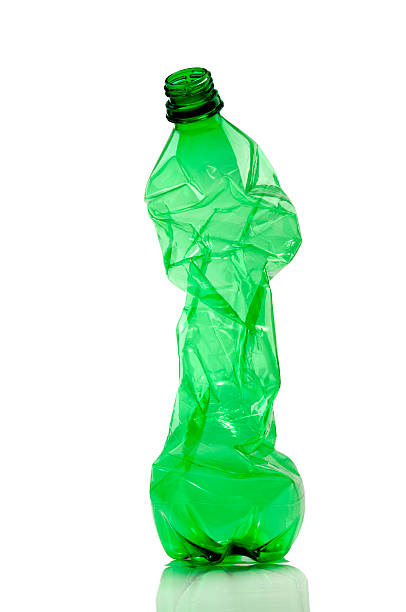plastic_bottle: (143, 67, 302, 566)
